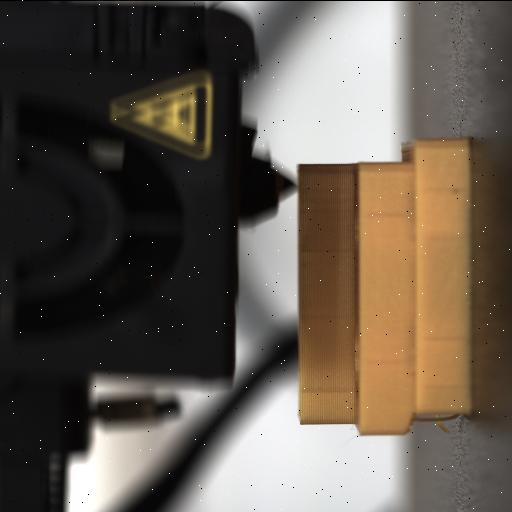layer_shift: (402, 138, 430, 434)
